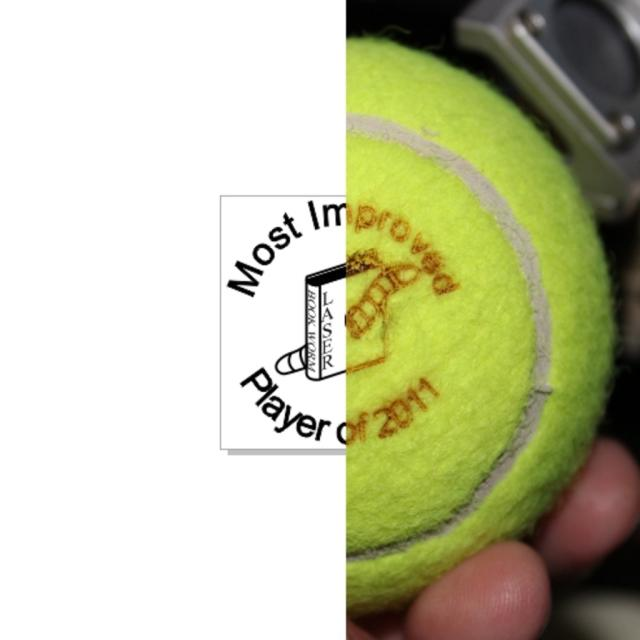Tennis ball: (345, 33, 615, 620)
